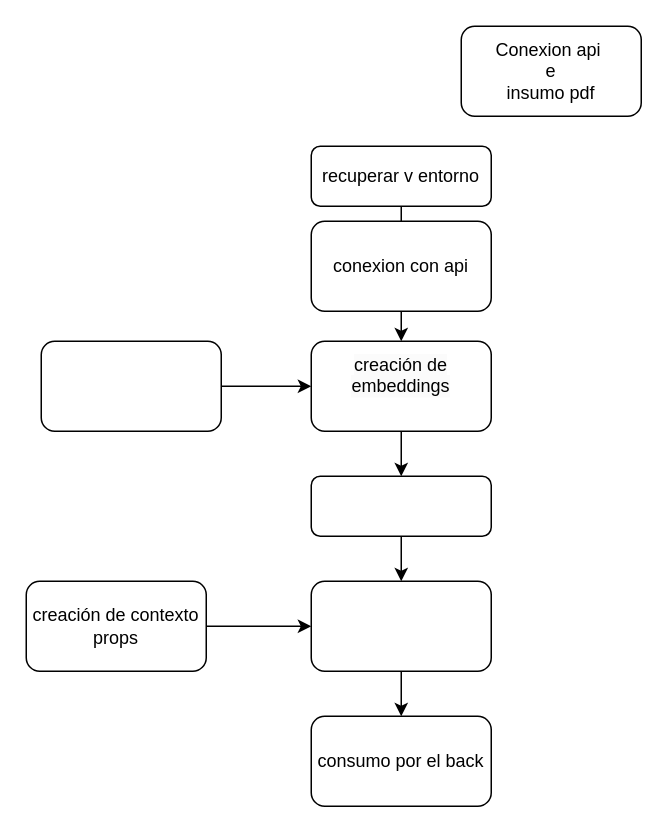
Some shapes in this 668 by 833 pixel diagram are drawn without their labels. The box of each missing label's shape, as (x1, y1, x2, y2) in pixels:
configuración de llamada a la api: (310, 580, 491, 671)
guardar vectores en bd faiss: (310, 475, 491, 536)
incorporación de pdf: (40, 340, 221, 431)
